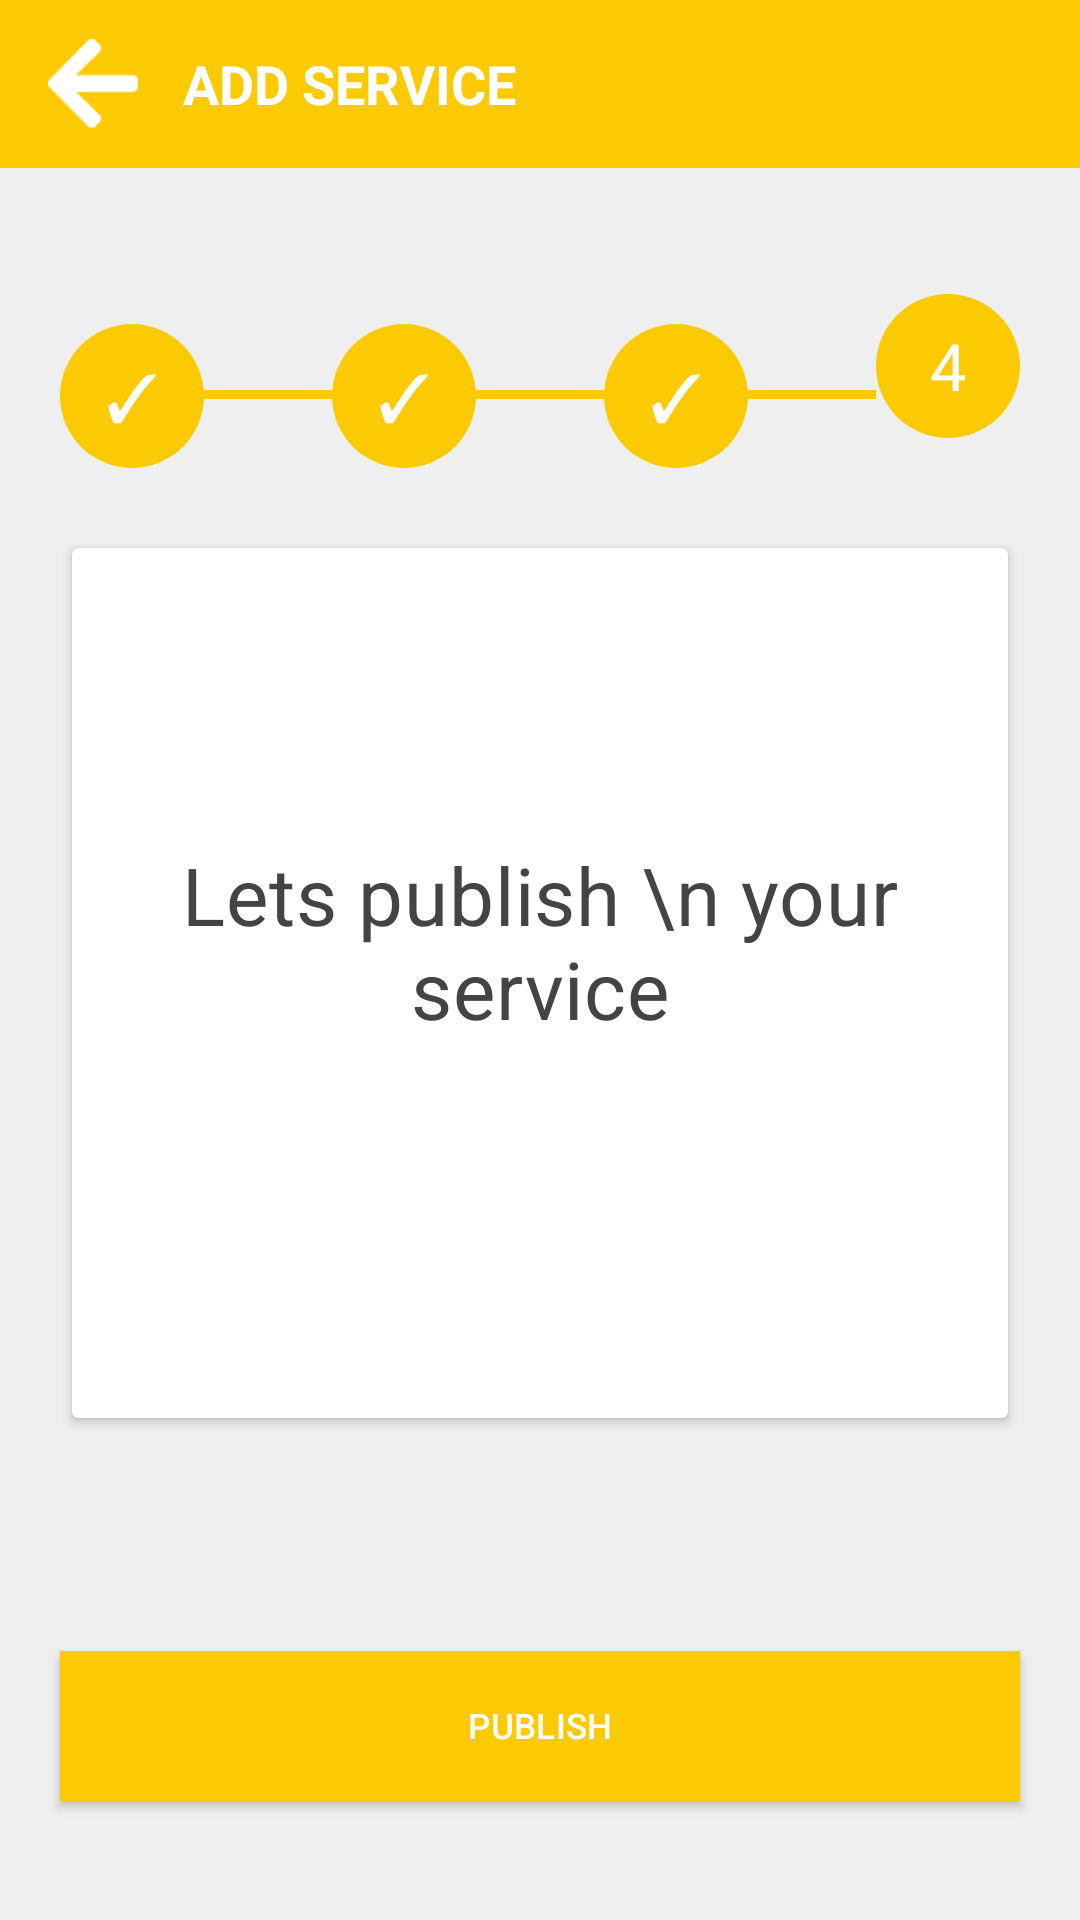

Icons on this 1080px x 1920px Android screen, each with its box as (x1, y1, x2, y2):
back: (48, 39, 138, 129)
